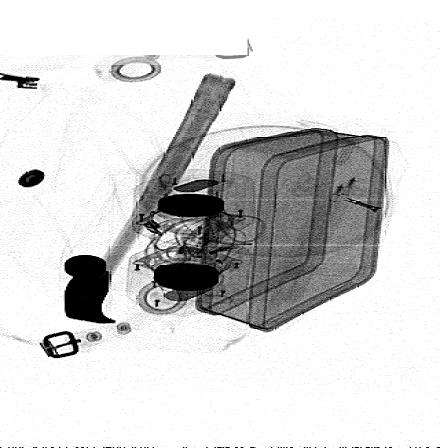Hammer: (62, 72, 239, 324)
